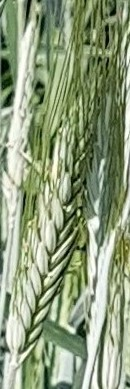Healthy Wheat: (7, 152, 95, 358)
